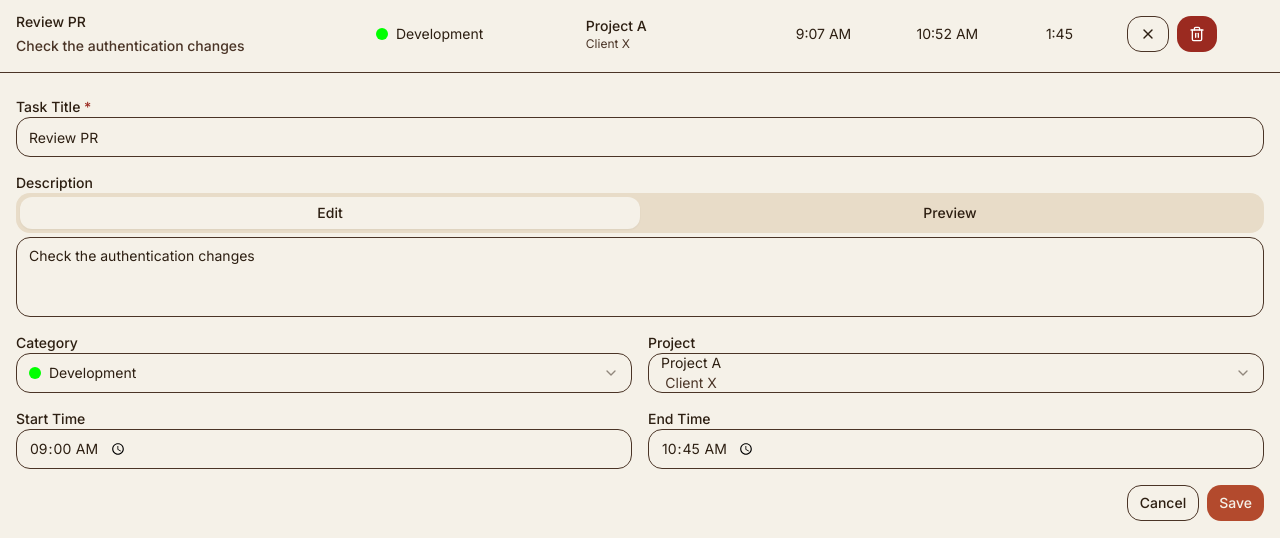
Test: ArchivedTaskRow › resets a mid-confirm delete state when the row collapses
The image size is (1280, 538).
Later steps or results of the test are not shown.
Click the button named "Delete task".
click(1198, 34)  # box [1178,16,1218,52]
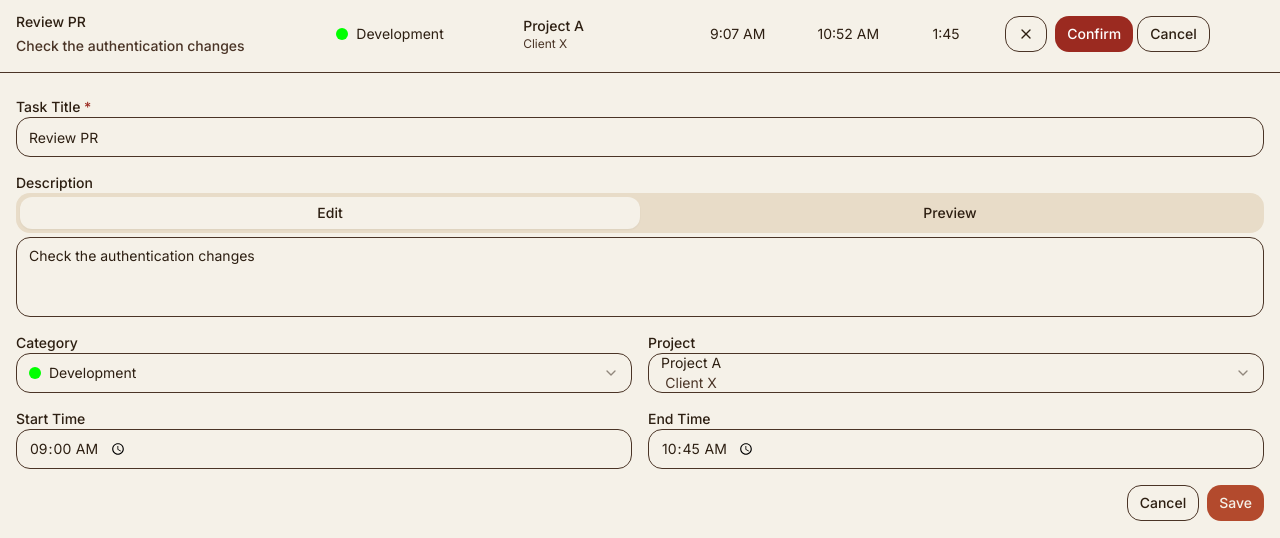
Now the button with aria-label "Confirm delete task" is shown, box [1055,16,1133,52]
